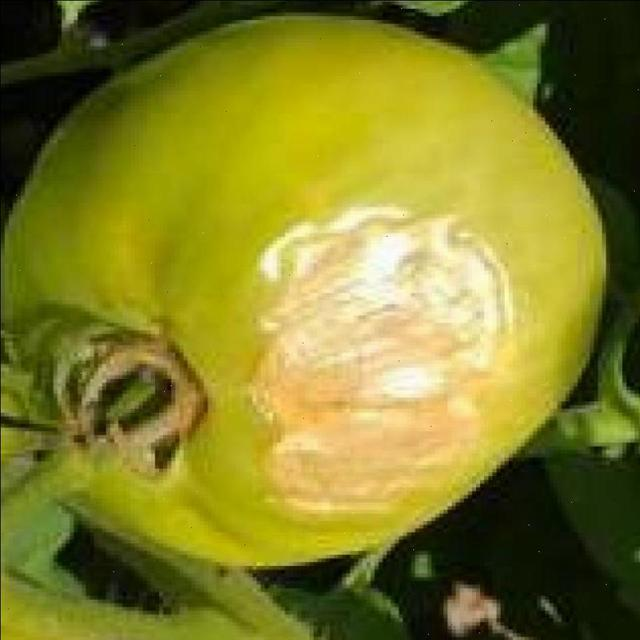Sunscald Fruit: (144, 136, 349, 356)
